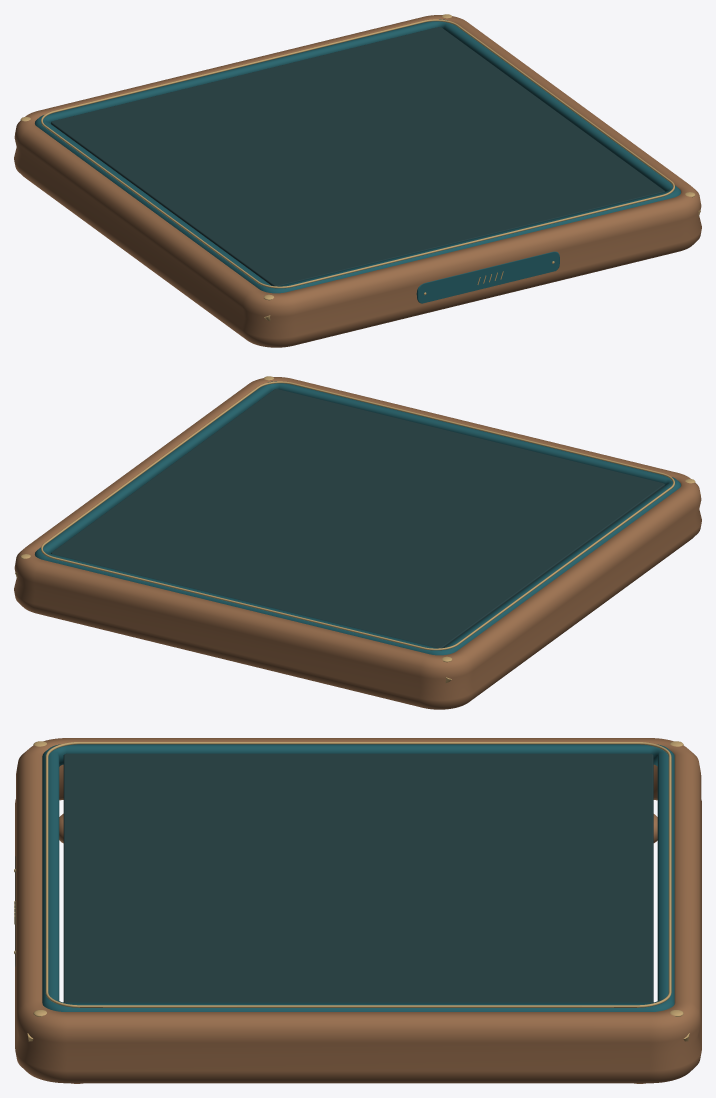
Rendered from echo_board_sculpted_v2.glb.
The picture shows the model from 3 angles, top to bottom: view 1: azimuth 30°, elevation 25°; view 2: azimuth 150°, elevation 25°; view 3: azimuth 270°, elevation 25°; orthographic projection. The views are drawn at different scales.
Parts seen in each view (by area): view 1: echo_board_sculpted_v2__SoftInnerShadow, echo_board_sculpted_v2__FurnitureWood_WaxedChestnut, echo_board_sculpted_v2__Enamel_PeacockLacquer, echo_board_sculpted_v2__Enamel_ChampagneInlay; view 2: echo_board_sculpted_v2__SoftInnerShadow, echo_board_sculpted_v2__FurnitureWood_WaxedChestnut, echo_board_sculpted_v2__Enamel_PeacockLacquer, echo_board_sculpted_v2__Enamel_ChampagneInlay; view 3: echo_board_sculpted_v2__SoftInnerShadow, echo_board_sculpted_v2__FurnitureWood_WaxedChestnut, echo_board_sculpted_v2__Enamel_PeacockLacquer, echo_board_sculpted_v2__Enamel_ChampagneInlay.
Boxes of the visible parts, box(x1,y1,x2,y2) form: echo_board_sculpted_v2__SoftInnerShadow: box(51, 27, 664, 286); echo_board_sculpted_v2__FurnitureWood_WaxedChestnut: box(14, 15, 701, 347); echo_board_sculpted_v2__Enamel_PeacockLacquer: box(35, 19, 680, 303); echo_board_sculpted_v2__Enamel_ChampagneInlay: box(15, 14, 700, 320); echo_board_sculpted_v2__SoftInnerShadow: box(51, 389, 664, 648); echo_board_sculpted_v2__FurnitureWood_WaxedChestnut: box(14, 377, 701, 709); echo_board_sculpted_v2__Enamel_PeacockLacquer: box(35, 381, 680, 655); echo_board_sculpted_v2__Enamel_ChampagneInlay: box(15, 376, 700, 682); echo_board_sculpted_v2__SoftInnerShadow: box(63, 753, 653, 1002); echo_board_sculpted_v2__FurnitureWood_WaxedChestnut: box(15, 738, 701, 1083); echo_board_sculpted_v2__Enamel_PeacockLacquer: box(15, 744, 674, 1011); echo_board_sculpted_v2__Enamel_ChampagneInlay: box(14, 741, 689, 1041).
Size of the model in its own units: 8.3 by 1.12 by 8.31.
